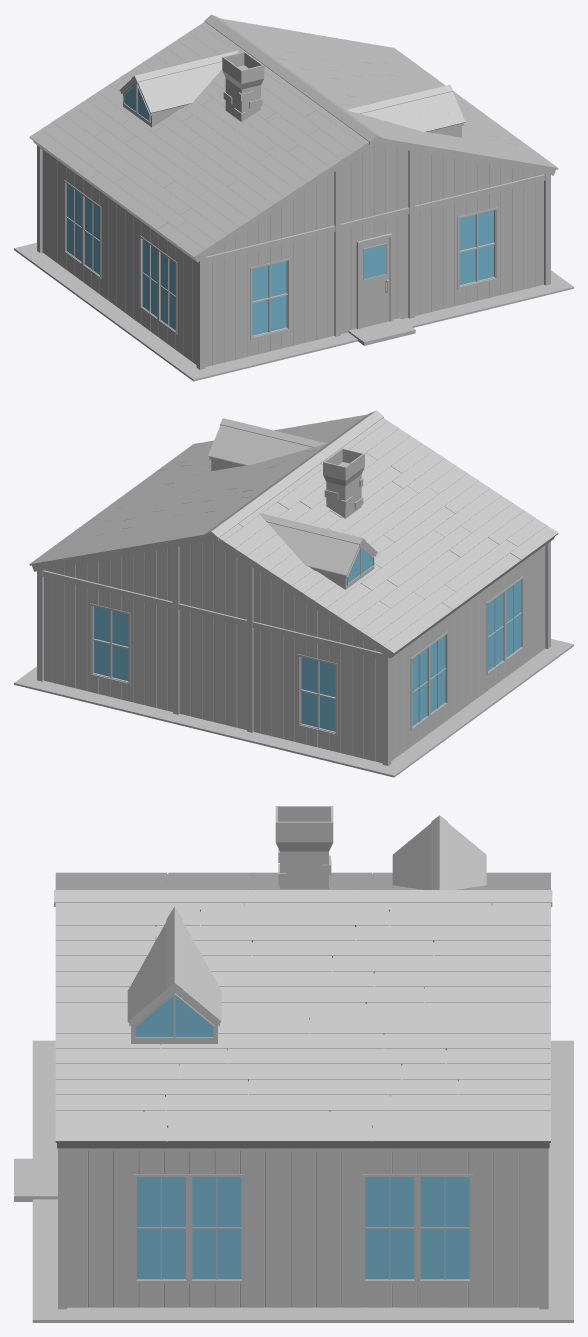
Rendered from House_02.gltf.
3 views of the same model, one above another, from view 1: azimuth 30°, elevation 25°; view 2: azimuth 150°, elevation 25°; view 3: azimuth 270°, elevation 25° (orthographic). The views are drawn at different scales.
Parts seen in each view (by area): view 1: Hous_02; view 2: Hous_02; view 3: Hous_02.
Part boxes in pixels (x1,y1,x2,y2): Hous_02: (14,14,573,381); Hous_02: (14,410,573,777); Hous_02: (14,806,573,1322).
Size of the model in its own units: 11 by 6.08 by 9.31.
